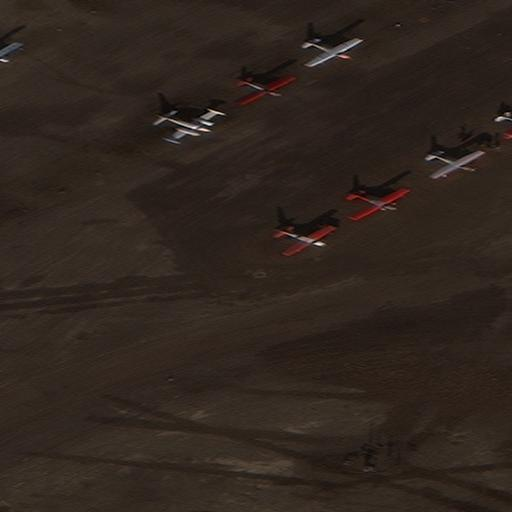Small Civil Transport: (155, 113, 226, 143), (348, 189, 410, 220), (235, 77, 295, 106), (274, 229, 336, 255), (427, 152, 486, 179), (305, 39, 363, 66), (0, 44, 23, 64)
